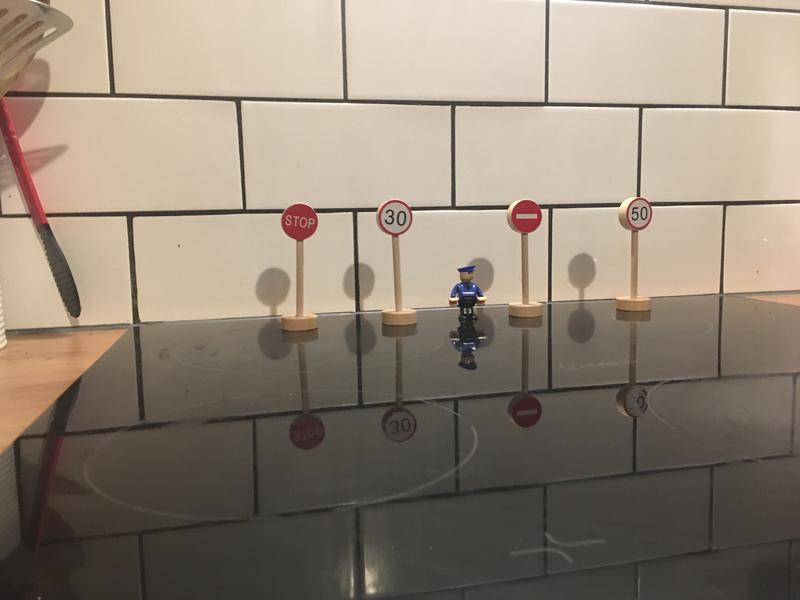Traffic_Sign_30: (380, 201, 412, 234)
Traffic_Sign_50: (628, 198, 652, 227)
Traffic_Sign_No_Entry: (512, 201, 541, 234)
Traffic_Sign_Stop: (283, 204, 318, 240)
person: (448, 265, 487, 324)
